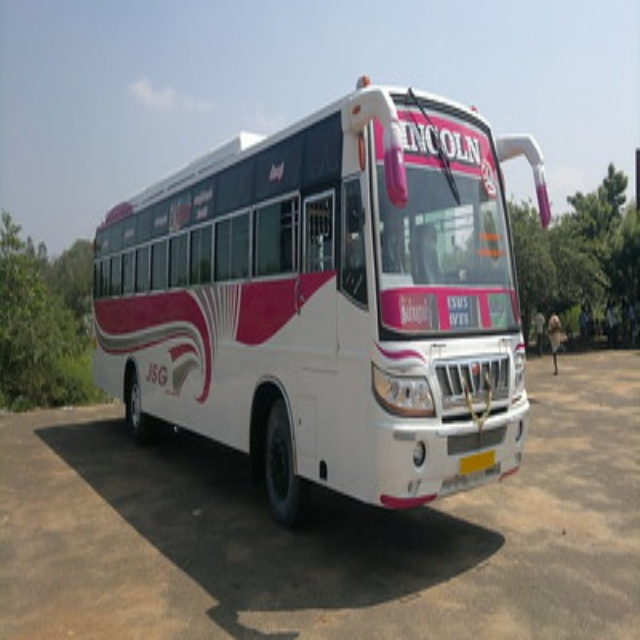Bus: (93, 80, 526, 526)
